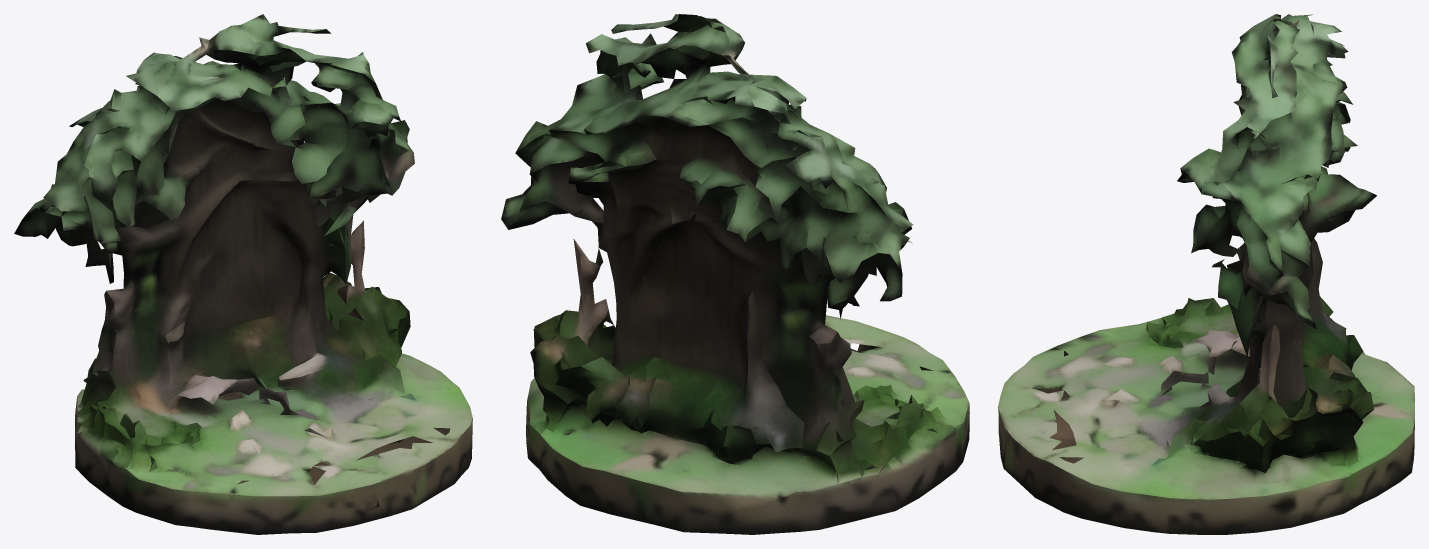
The model's file is verdant-root-arch.glb.
3 renders of one model, left to right at view 1: azimuth 30°, elevation 25°; view 2: azimuth 150°, elevation 25°; view 3: azimuth 270°, elevation 25°, orthographic. The views are drawn at different scales.
Parts seen in each view (by area): view 1: a-freestanding-open-fantasy-doorway-arch-wide_optimized; view 2: a-freestanding-open-fantasy-doorway-arch-wide_optimized; view 3: a-freestanding-open-fantasy-doorway-arch-wide_optimized.
Part boxes in pixels (x1,y1,x2,y2): a-freestanding-open-fantasy-doorway-arch-wide_optimized: (14,14,472,534); a-freestanding-open-fantasy-doorway-arch-wide_optimized: (501,14,969,534); a-freestanding-open-fantasy-doorway-arch-wide_optimized: (998,14,1414,534).
Bounding box in the file's own units: 0.9549 × 0.991 × 0.872.
Materials: 1 (1 with a texture image).
